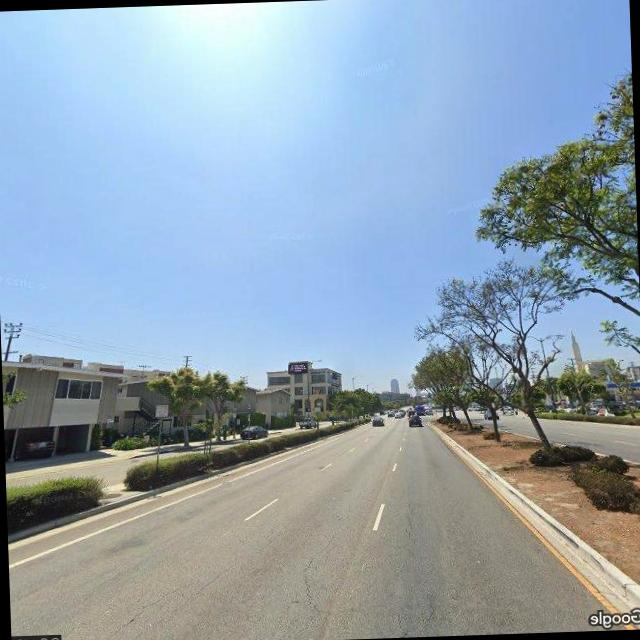pothole: (104, 546, 251, 640), (298, 532, 338, 630)
